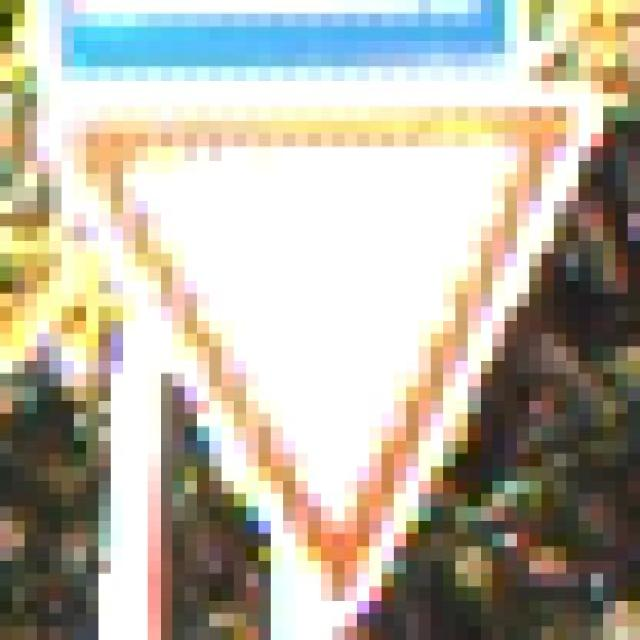Give Way: (54, 89, 620, 636)
